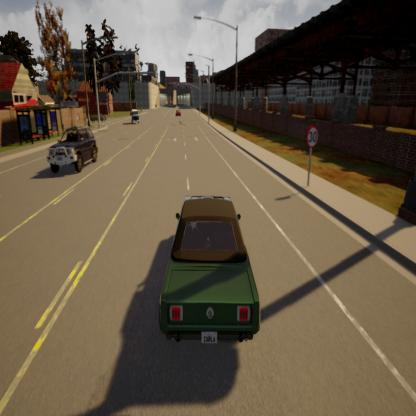Cars: (160, 194, 260, 345), (49, 126, 99, 169), (90, 114, 106, 125), (131, 108, 140, 123), (175, 107, 182, 119)
